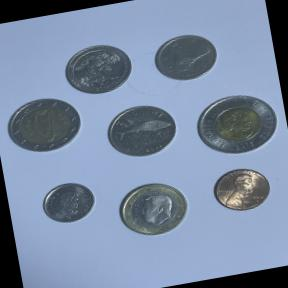1 Euro-B: (109, 172, 201, 247)
2 Euro-B: (2, 90, 87, 160)
Canada-10cent-B: (34, 173, 102, 231)
Canada-2Dollar-B: (186, 85, 286, 165)
Croatia-2Kune-B: (99, 96, 184, 166)
US-1cent-B: (200, 159, 276, 221)
US-25cent-B: (58, 36, 137, 100)
